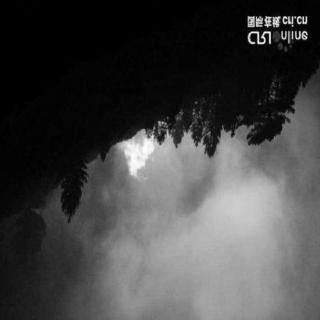Fire: (118, 137, 156, 181)
